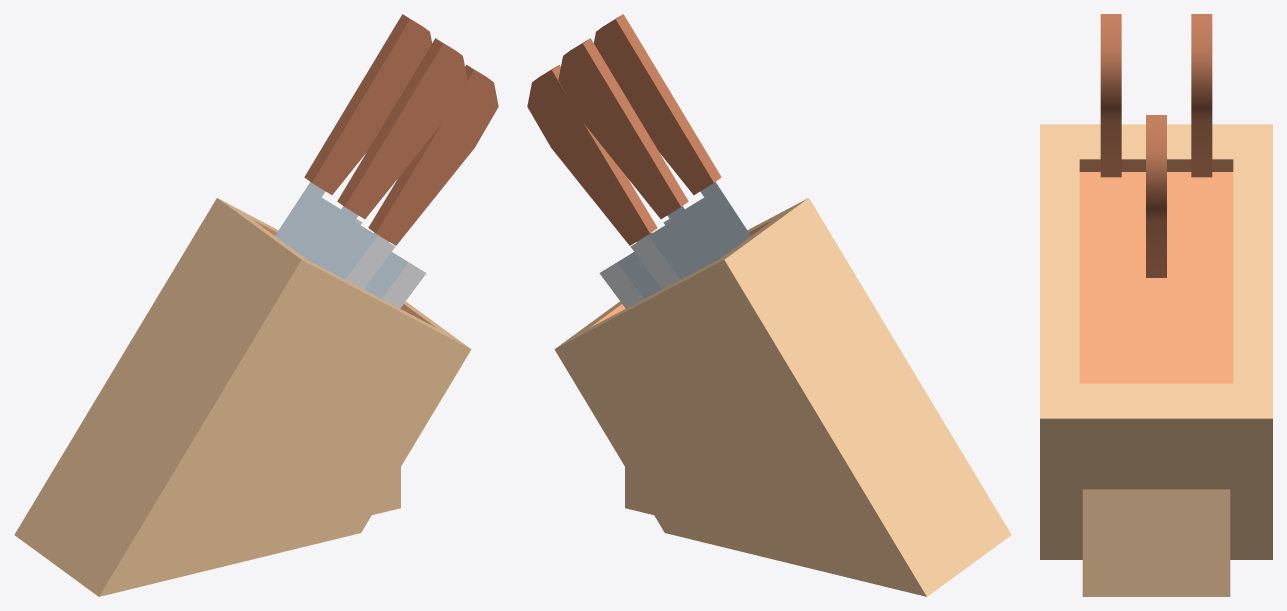
The model's file is Knife Block.glb.
3 renders of one model, left to right at view 1: azimuth 30°, elevation 25°; view 2: azimuth 150°, elevation 25°; view 3: azimuth 270°, elevation 25°, orthographic. The views are drawn at different scales.
Visible parts, largest first — view 1: knifeBlock, cookingKnife_2, cookingKnife, cookingKnife_1; view 2: knifeBlock, cookingKnife, cookingKnife_2, cookingKnife_1; view 3: knifeBlock, cookingKnife, cookingKnife_2, cookingKnife_1.
Part boxes in pixels (x1,y1,x2,y2): knifeBlock: (14,198,471,596); cookingKnife_2: (308,38,467,289); cookingKnife: (275,14,431,259); cookingKnife_1: (364,65,498,308); knifeBlock: (554,198,1011,596); cookingKnife: (558,38,717,289); cookingKnife_2: (594,14,750,259); cookingKnife_1: (527,65,661,308); knifeBlock: (1040,124,1272,596); cookingKnife: (1191,14,1212,177); cookingKnife_2: (1100,14,1121,177); cookingKnife_1: (1146,115,1166,277).
Bounding box in the file's own units: 0.6628 × 0.6472 × 0.2218.
